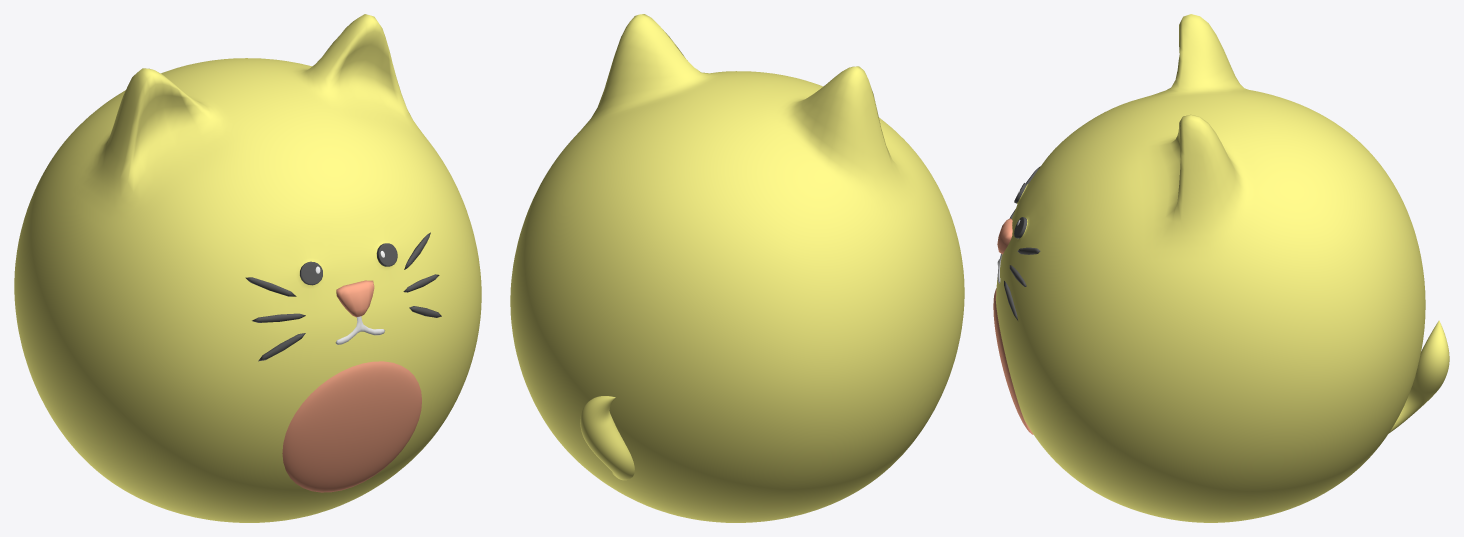
Rendered from Cat.fbx.
3 renders of one model, left to right at view 1: azimuth 30°, elevation 25°; view 2: azimuth 150°, elevation 25°; view 3: azimuth 270°, elevation 25°, orthographic. The views are drawn at different scales.
Parts seen in each view (by area): view 1: CAT1; view 2: CAT1; view 3: CAT1.
Part boxes in pixels (x1,y1,x2,y2): CAT1: [14, 14, 481, 522]; CAT1: [510, 14, 964, 522]; CAT1: [993, 14, 1449, 522].
Size of the model in its own units: 0.8401 by 0.9383 by 0.892.
